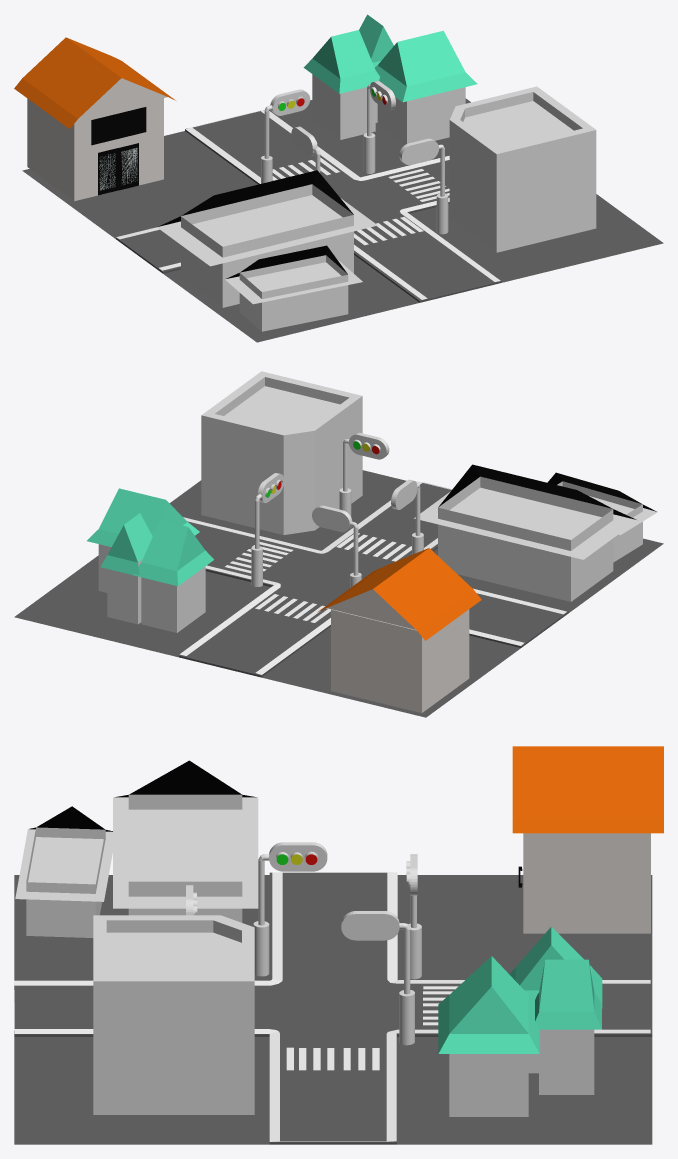
Rendered from townsquare.fbx.
3 renders of one model, top to bottom at view 1: azimuth 30°, elevation 25°; view 2: azimuth 150°, elevation 25°; view 3: azimuth 270°, elevation 25°, orthographic. The views are drawn at different scales.
Visible parts, largest first — view 1: 平面, 平面.002, 立方体, 立方体.001, 立方体.003, 立方体.002, 立方体.005, 平面.001, 円.001, 円.002, 円.003, 立方体.004 (+1 smaller); view 2: 平面, 平面.002, 立方体.001, 立方体, 立方体.005, 立方体.004, 立方体.003, 立方体.002, 円.001, 円.003, 円.002, 円; view 3: 平面, 平面.002, 立方体, 立方体.001, 立方体.003, 立方体.002, 立方体.004, 円, 円.003, 立方体.005, 円.002.
Part boxes in pixels (x1=…): 平面: x1=22, y1=98, x2=663, y2=342; 平面.002: x1=449, y1=86, x2=596, y2=252; 立方体: x1=14, y1=37, x2=175, y2=201; 立方体.001: x1=157, y1=170, x2=377, y2=307; 立方体.003: x1=375, y1=30, x2=477, y2=145; 立方体.002: x1=225, y1=245, x2=362, y2=331; 立方体.005: x1=303, y1=30, x2=379, y2=139; 平面.001: x1=98, y1=143, x2=138, y2=195; 円.001: x1=399, y1=138, x2=448, y2=234; 円.002: x1=261, y1=89, x2=310, y2=183; 円.003: x1=363, y1=80, x2=395, y2=173; 立方体.004: x1=359, y1=14, x2=393, y2=122; 平面: x1=14, y1=470, x2=663, y2=717; 平面.002: x1=201, y1=371, x2=362, y2=534; 立方体.001: x1=414, y1=464, x2=637, y2=601; 立方体: x1=317, y1=548, x2=481, y2=713; 立方体.005: x1=133, y1=520, x2=213, y2=632; 立方体.004: x1=100, y1=513, x2=152, y2=624; 立方体.003: x1=87, y1=488, x2=199, y2=592; 立方体.002: x1=547, y1=472, x2=657, y2=562; 円.001: x1=339, y1=432, x2=389, y2=528; 円.003: x1=251, y1=473, x2=283, y2=586; 円.002: x1=312, y1=505, x2=361, y2=587; 円: x1=391, y1=479, x2=423, y2=554; 平面: x1=14, y1=871, x2=652, y2=1144; 平面.002: x1=93, y1=915, x2=254, y2=1114; 立方体: x1=512, y1=746, x2=663, y2=933; 立方体.001: x1=113, y1=760, x2=258, y2=922; 立方体.003: x1=438, y1=956, x2=539, y2=1116; 立方体.002: x1=15, y1=806, x2=112, y2=937; 立方体.004: x1=535, y1=959, x2=601, y2=1094; 円: x1=253, y1=842, x2=327, y2=976; 円.003: x1=341, y1=911, x2=414, y2=1045; 立方体.005: x1=509, y1=926, x2=602, y2=1073; 円.002: x1=406, y1=854, x2=421, y2=979.
Bounding box in the file's own units: 2052 × 556 × 2039.
